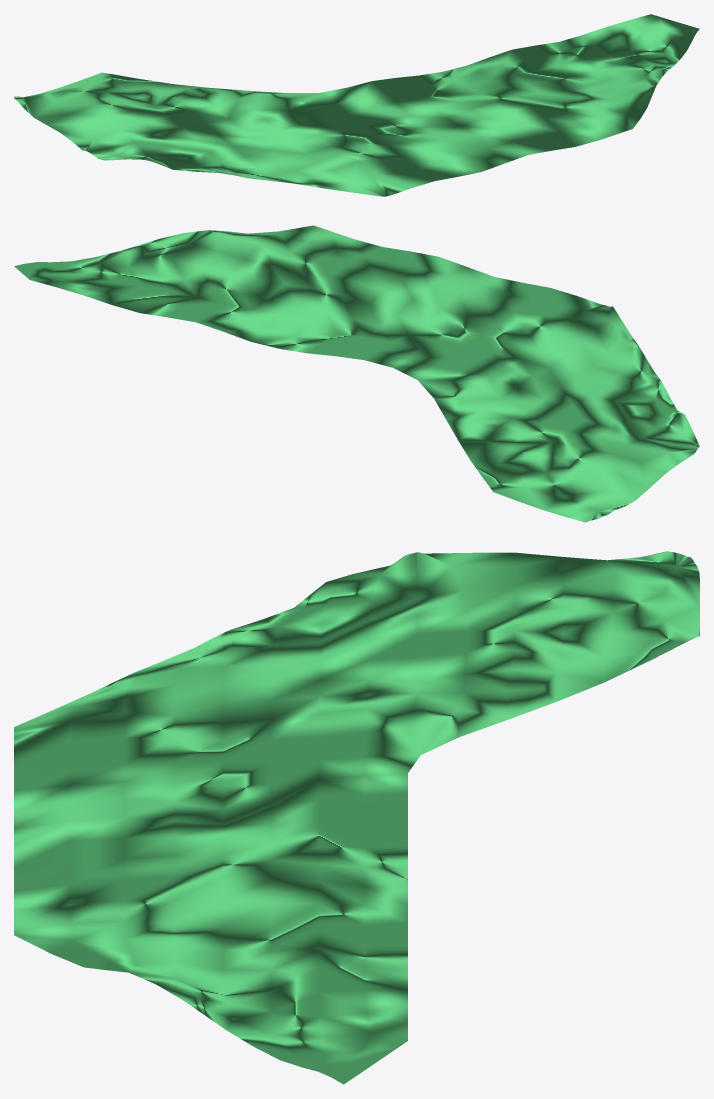
The model's file is planter_soil_corner_a.glb.
3 renders of one model, top to bottom at view 1: azimuth 30°, elevation 25°; view 2: azimuth 150°, elevation 25°; view 3: azimuth 270°, elevation 25°, orthographic. The views are drawn at different scales.
Bounding box in the file's own units: 12.66 × 0.2959 × 7.05.
